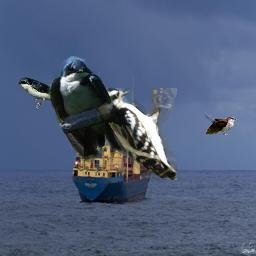Cuckoo: (205, 104, 238, 136)
Swallow: (47, 56, 140, 167), (18, 77, 75, 110)
Woodpecker: (93, 88, 177, 180)
